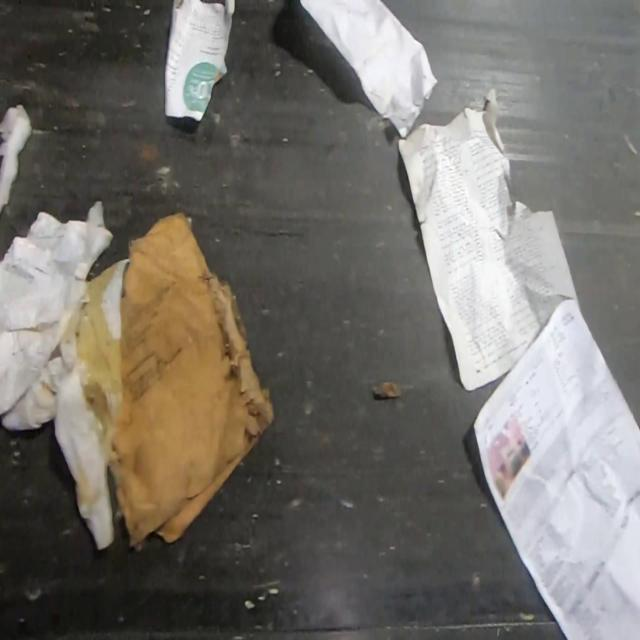cardboard: (107, 207, 277, 551)
